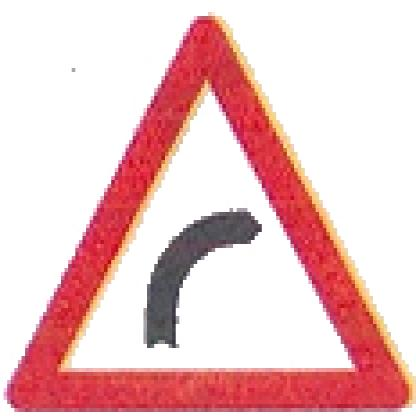Right bend: (3, 13, 407, 413)
